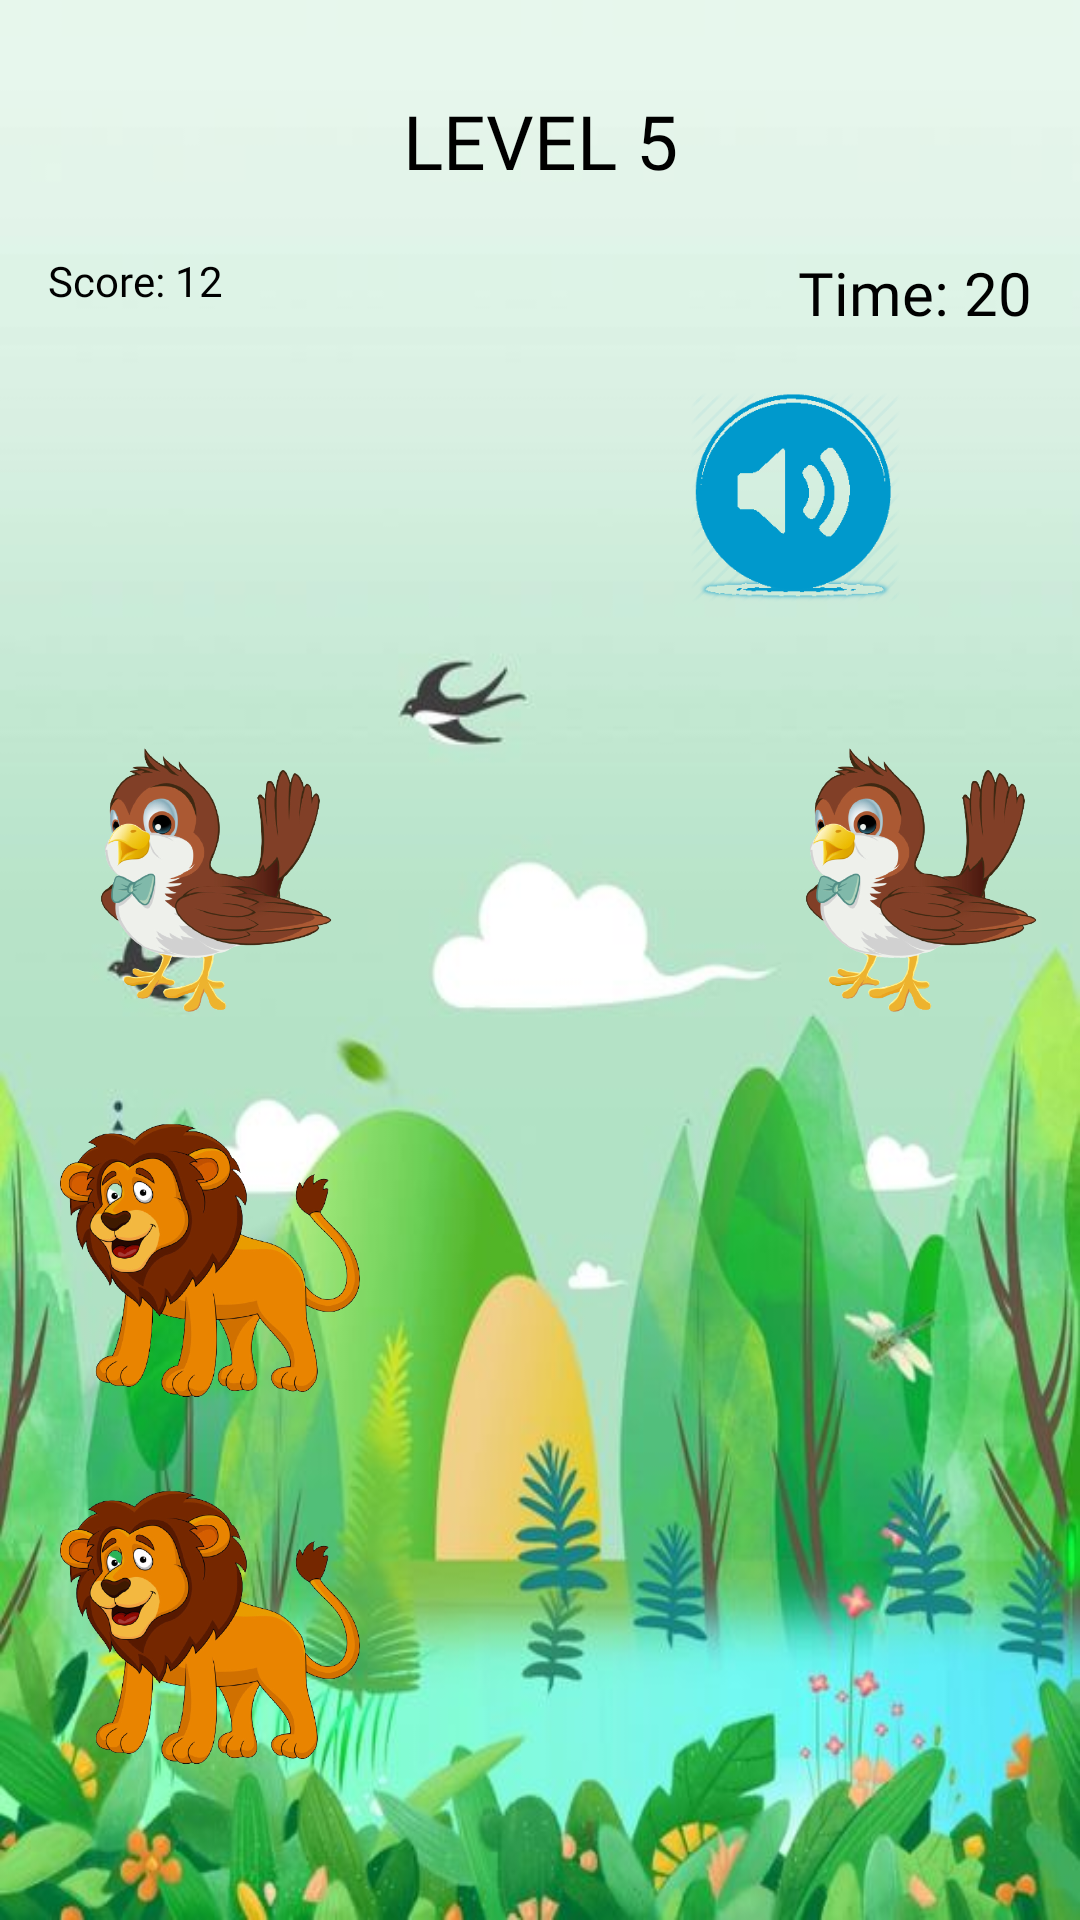

Icons on this 1080x1920 Android screen, each with the point to tap as [x,y]:
bird: [216,880], [921,880]
lion: [210,1267], [210,1634]
